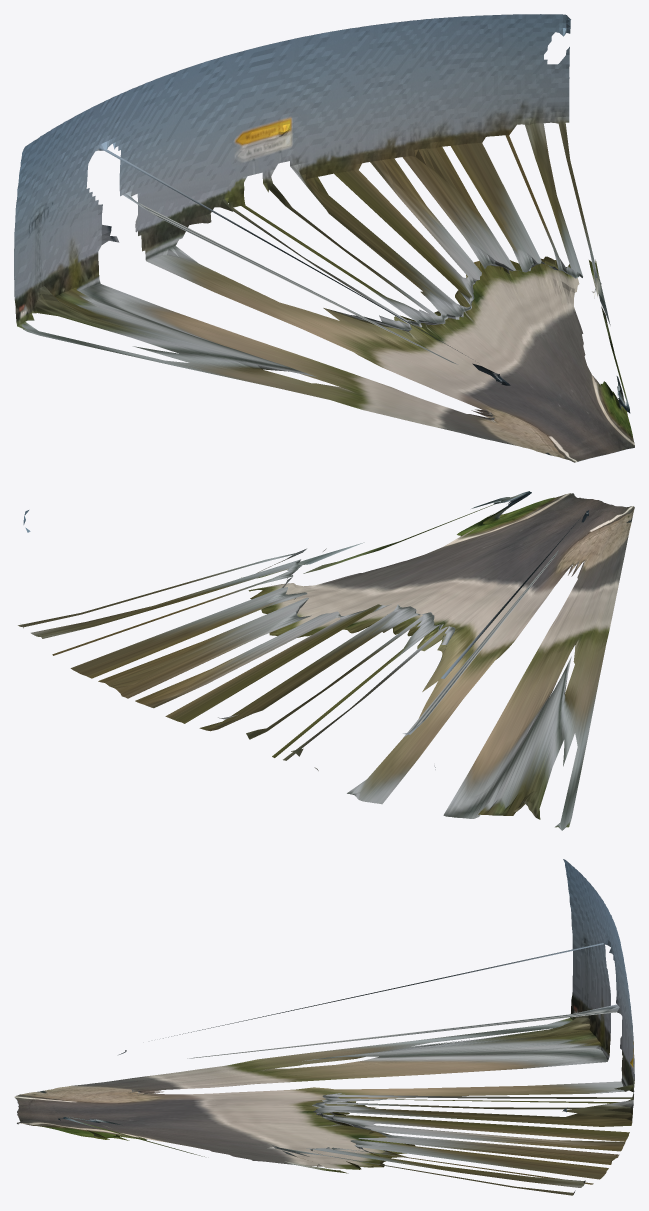
3 renders of one model, top to bottom at view 1: azimuth 30°, elevation 25°; view 2: azimuth 150°, elevation 25°; view 3: azimuth 270°, elevation 25°, orthographic. The views are drawn at different scales.
Visible parts, largest first — view 1: defaultobject; view 2: defaultobject; view 3: defaultobject.
Boxes of the visible parts, left/top/right/bottom form: defaultobject: left=14, top=14, right=634, bottom=462; defaultobject: left=18, top=491, right=634, bottom=830; defaultobject: left=14, top=859, right=634, bottom=1195.
Bounding box in the file's own units: 41.14 × 13.92 × 44.78.
Materials: 1 (1 with a texture image).
